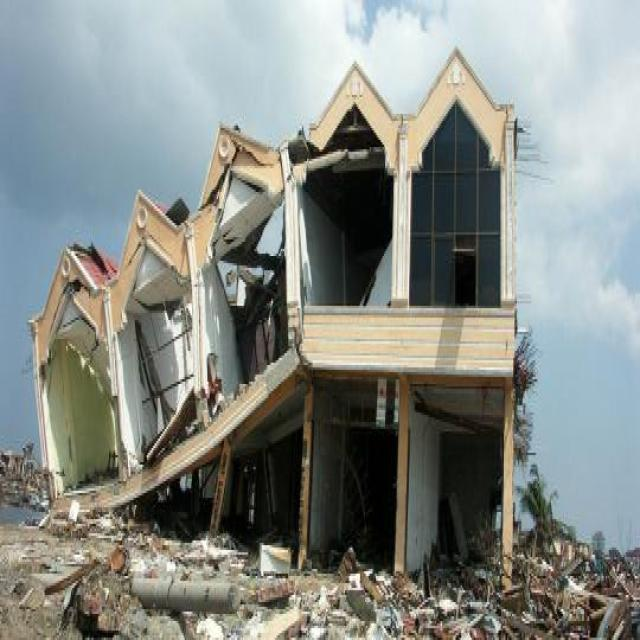damage: (1, 83, 313, 501), (0, 507, 640, 640)
